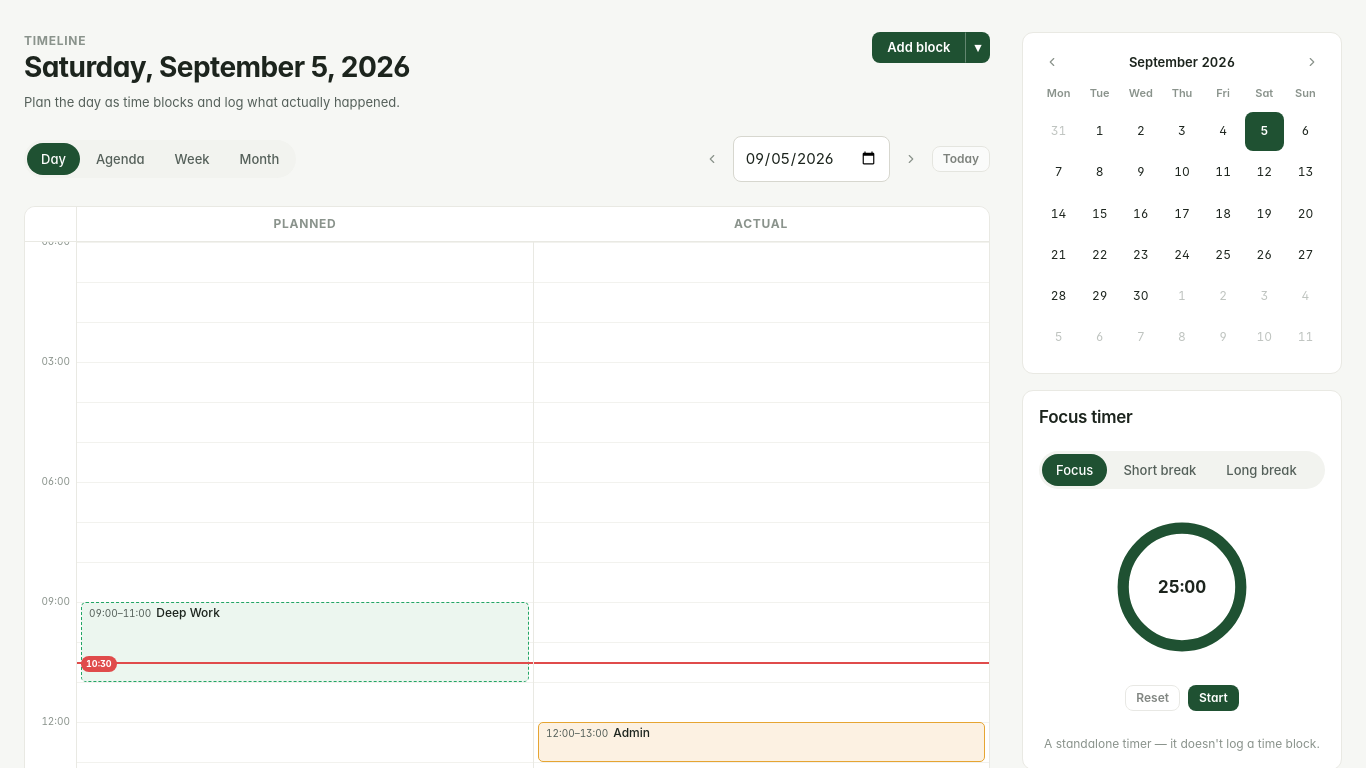
it: TimelineScreen › opens the add-block dialog from the header action
Click the button "Add block". click: [919, 48]
box: [872,32,966,63]
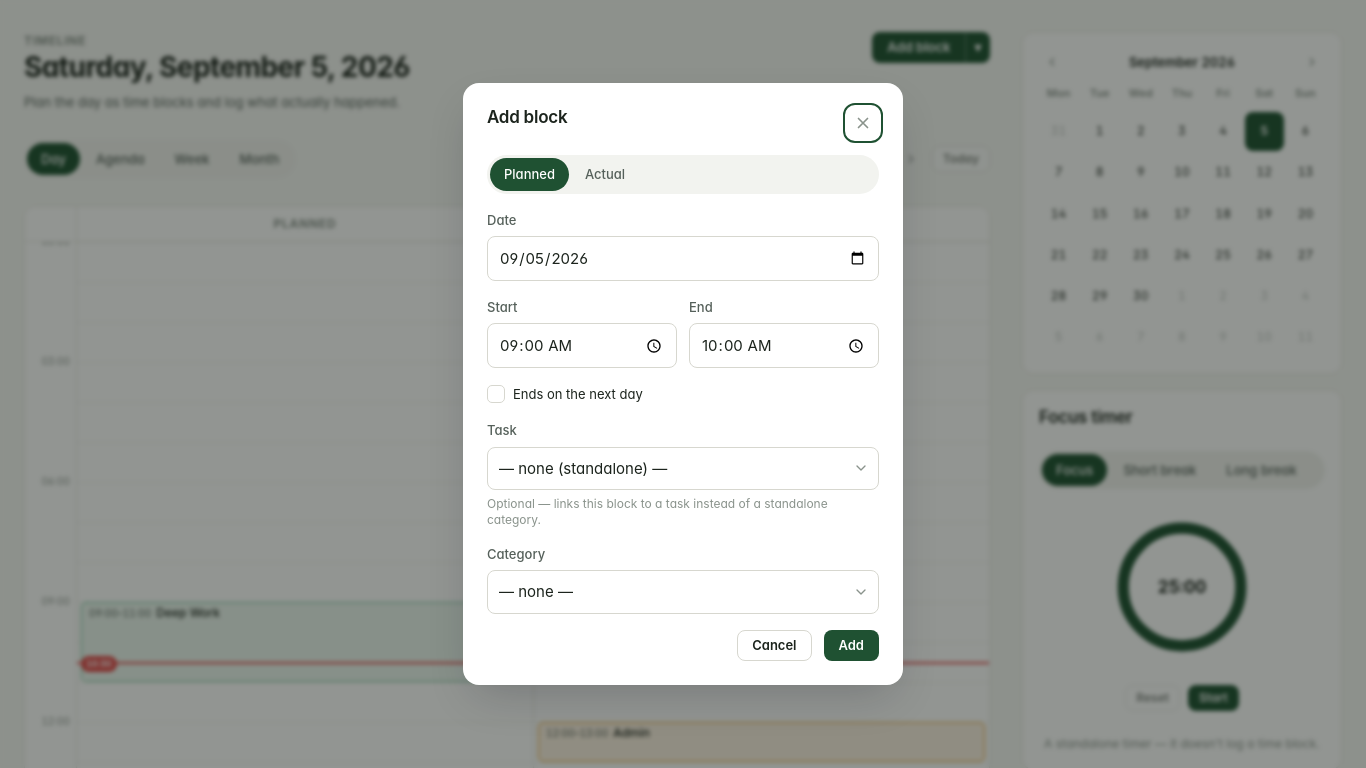
Check: the dialog is shown, box [463,83,903,685]
Check: the heading "Add block" is shown, box [487,107,567,128]
